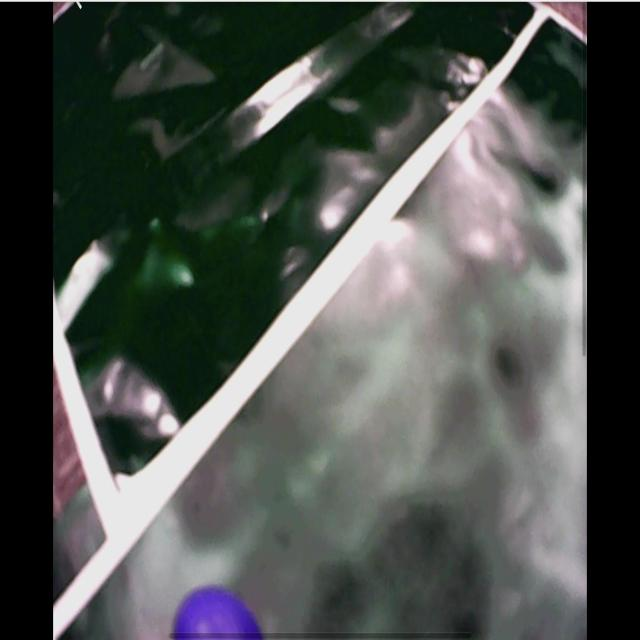ball: (174, 588, 261, 640)
